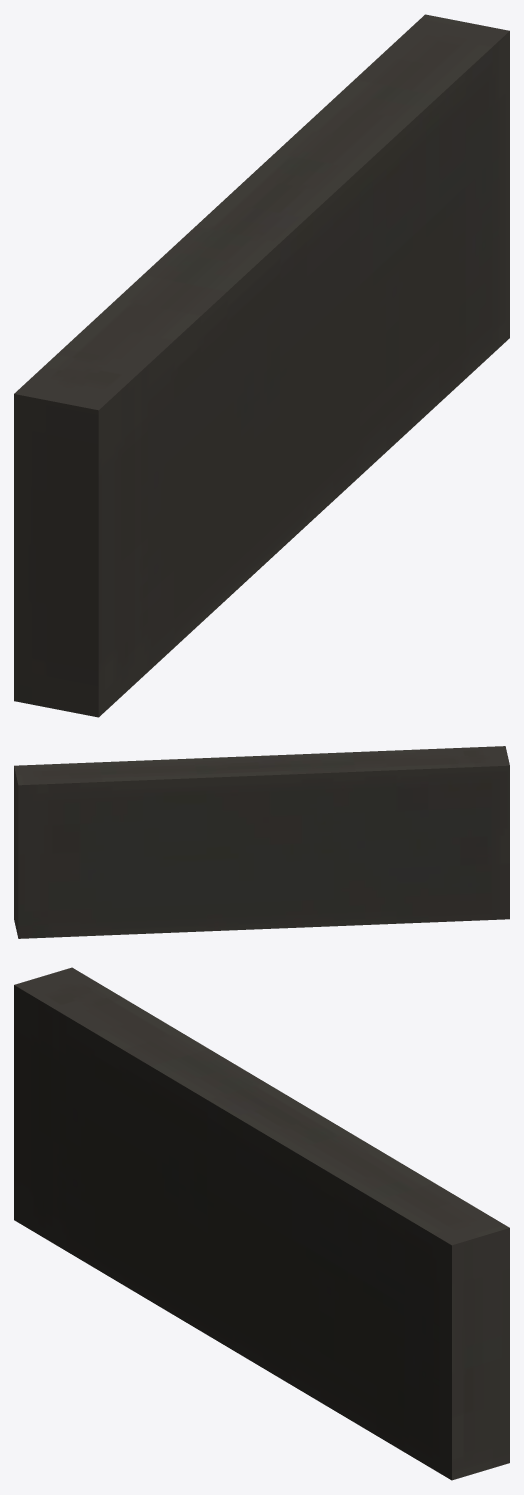
The model's file is brace__link.glb.
3 renders of one model, top to bottom at view 1: azimuth 30°, elevation 25°; view 2: azimuth 150°, elevation 25°; view 3: azimuth 270°, elevation 25°, orthographic. The views are drawn at different scales.
Visible parts, largest first — view 1: world; view 2: world; view 3: world.
Boxes of the visible parts, x1,y1,x2,y2 form: world: (14,14,509,717); world: (14,746,509,938); world: (14,967,509,1480).
Bounding box in the file's own units: 0.2027 × 0.08 × 0.1529.
1 material, 1 textured.
